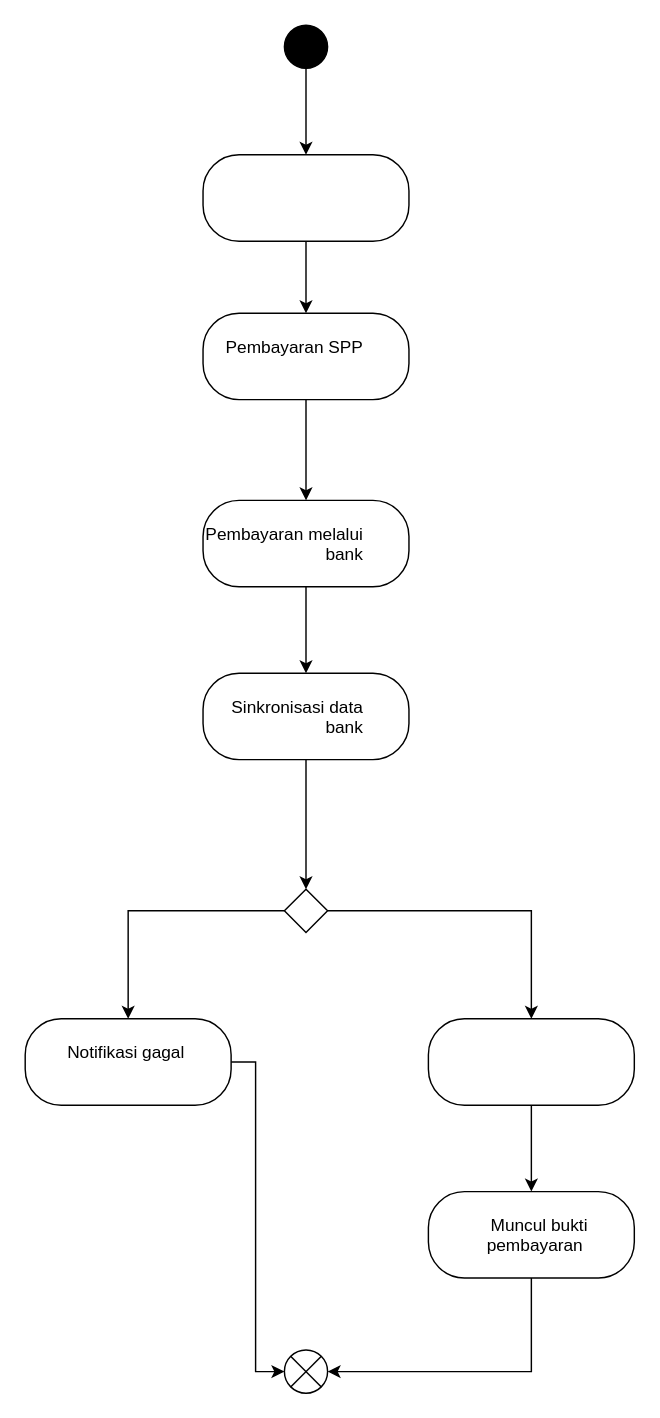
Some shapes in this 660 by 1418 pixel diagram are drawn without their labels. The centre of each missing label's shape, as x and y in pixels:
Notifikasi berhasil: [530,1061]
Tagihan SPP: [305,197]
